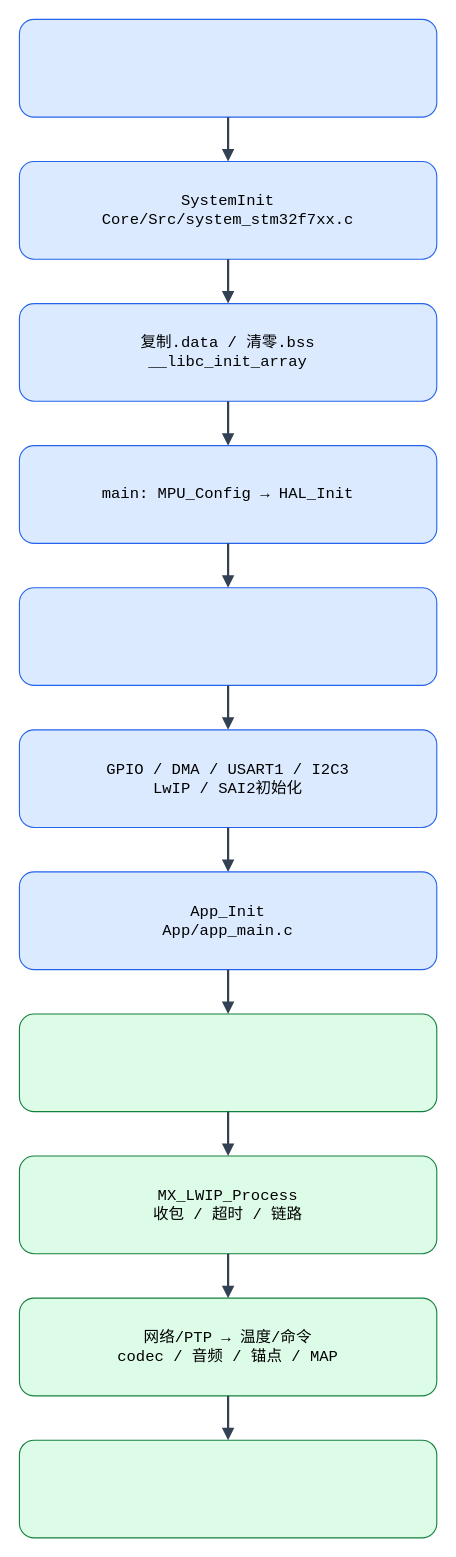
The diagram is 456 pixels wide and 1557 high, and some of its shapes have lost their labels. Each missing label, with the box of its shape:
FlushOneLine 随后进入下一轮App_Process: (18, 1439, 437, 1538)
Reset_Handler startup_stm32f746xx.s: (18, 18, 437, 117)
SystemClock_Config PeriphCommonClock_Config: (18, 587, 437, 685)
while(1): App_Process: (18, 1013, 437, 1112)
